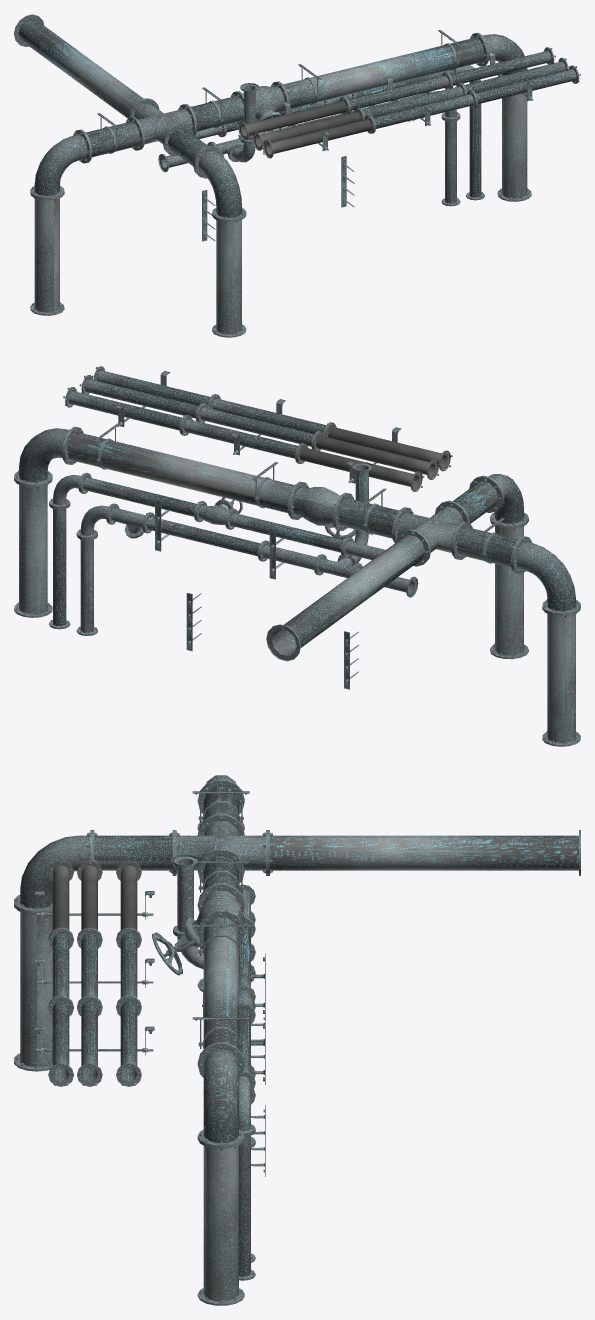
Rendered from Pipes.fbx.
The picture shows the model from 3 angles, top to bottom: view 1: azimuth 30°, elevation 25°; view 2: azimuth 150°, elevation 25°; view 3: azimuth 270°, elevation 25°; orthographic projection. The views are drawn at different scales.
Visible parts, largest first — view 1: group_4, group_35, group_87, group_16, group_55, group_27, group_89, group_12, group_79, group_82, group_33, group_69.003 (+15 smaller); view 2: group_4, group_35, group_87, group_55, group_16, group_89, group_12, group_57, group_76, group_23, group_33, group_19 (+24 smaller); view 3: group_35, group_55, group_16, group_4, group_57, group_12, group_27, group_13, group_79.001, group_82.001, group_19, group_76.001 (+14 smaller).
Boxes of the visible parts, x1,y1,x2,y2 form: group_4: [276, 33, 487, 108]; group_35: [14, 14, 152, 118]; group_87: [30, 192, 64, 315]; group_16: [212, 214, 246, 337]; group_55: [497, 92, 531, 201]; group_27: [194, 146, 246, 220]; group_89: [30, 130, 91, 199]; group_12: [129, 98, 196, 153]; group_79: [238, 97, 349, 140]; group_82: [263, 115, 374, 158]; group_33: [80, 117, 143, 162]; group_69.003: [343, 72, 451, 112]; group_4: [63, 427, 302, 518]; group_35: [266, 529, 430, 661]; group_87: [542, 606, 580, 746]; group_55: [14, 478, 52, 617]; group_16: [490, 519, 528, 659]; group_89: [512, 536, 580, 614]; group_12: [393, 501, 468, 563]; group_57: [14, 426, 77, 485]; group_76: [312, 431, 438, 479]; group_23: [334, 493, 405, 542]; group_33: [452, 522, 524, 573]; group_19: [49, 504, 70, 629]; group_35: [268, 830, 580, 875]; group_55: [197, 1138, 244, 1305]; group_16: [14, 906, 52, 1071]; group_4: [197, 911, 244, 1063]; group_57: [197, 1043, 244, 1147]; group_12: [174, 815, 267, 875]; group_27: [14, 830, 92, 912]; group_13: [92, 830, 174, 875]; group_79.001: [116, 996, 141, 1086]; group_82.001: [48, 996, 73, 1086]; group_19: [239, 1130, 255, 1280]; group_76.001: [77, 996, 102, 1086].
Bounding box in the file's own units: 993 × 354 × 723.
